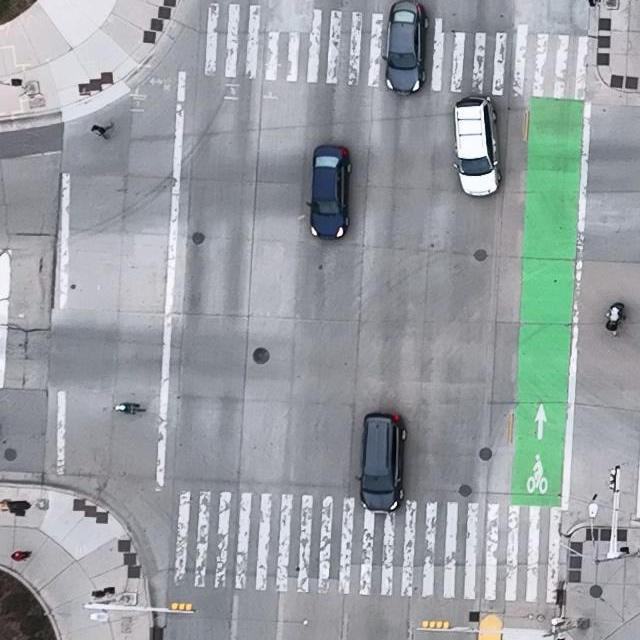car: (354, 411, 407, 514), (453, 96, 502, 197), (305, 146, 353, 240), (382, 0, 428, 95)
